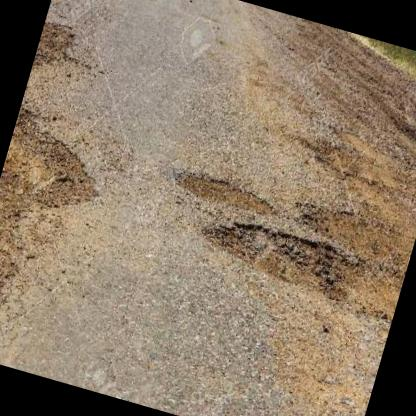pothole: (195, 206, 366, 312), (0, 104, 117, 234), (170, 164, 281, 221), (32, 16, 81, 78)
